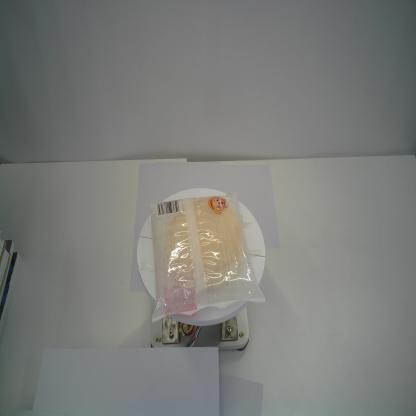Dessert: (146, 188, 268, 324)
